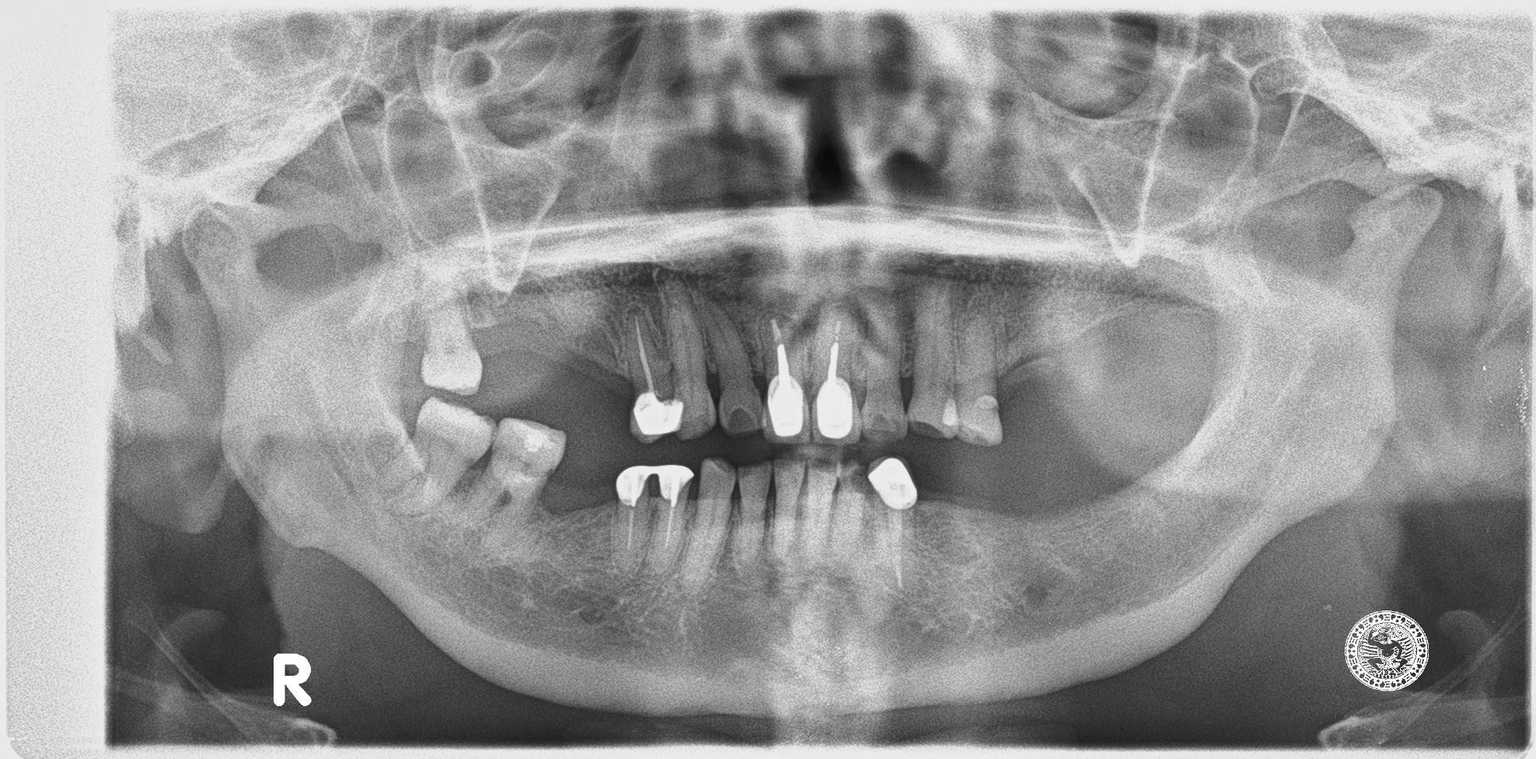Individual Tooth: (393, 397, 495, 513), (467, 419, 565, 522), (614, 304, 682, 442), (699, 298, 763, 433), (660, 282, 715, 439), (952, 283, 1002, 445), (908, 279, 958, 437), (682, 460, 736, 590), (861, 292, 907, 442), (866, 457, 917, 589), (811, 303, 859, 443), (764, 318, 810, 442), (423, 302, 481, 394), (612, 467, 655, 576), (649, 465, 693, 570), (732, 463, 771, 561), (800, 461, 839, 547), (830, 464, 865, 553), (774, 460, 807, 541)
